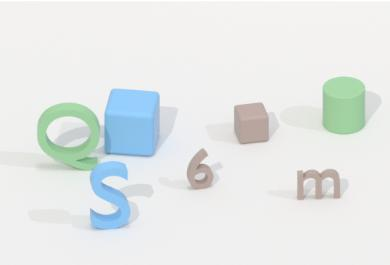0-KhoiTru: (318, 71, 371, 139)
0-KhoiVuong: (99, 84, 164, 160), (225, 96, 276, 151)
6: (181, 143, 220, 195)
Q: (32, 99, 103, 172)
S: (88, 157, 135, 234)
m: (290, 164, 345, 205)
